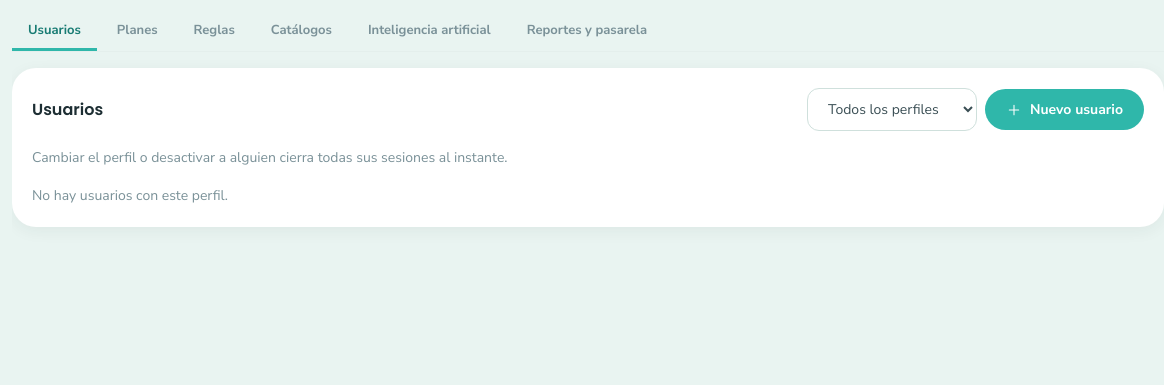
it: AdminPage › muestra los planes con sus beneficios
This screenshot has width=1164, height=385.
Click the tab "Planes" at x=137, y=32, box top-left (101, 12), bottom-right (174, 51)
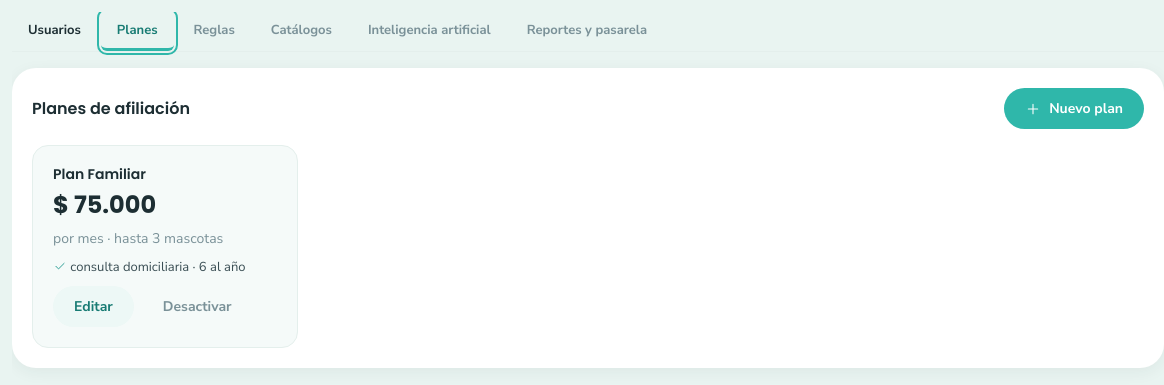
Expected: the list item "consulta domiciliaria · 6 al año" is shown, top-left (53, 257), bottom-right (277, 278)
